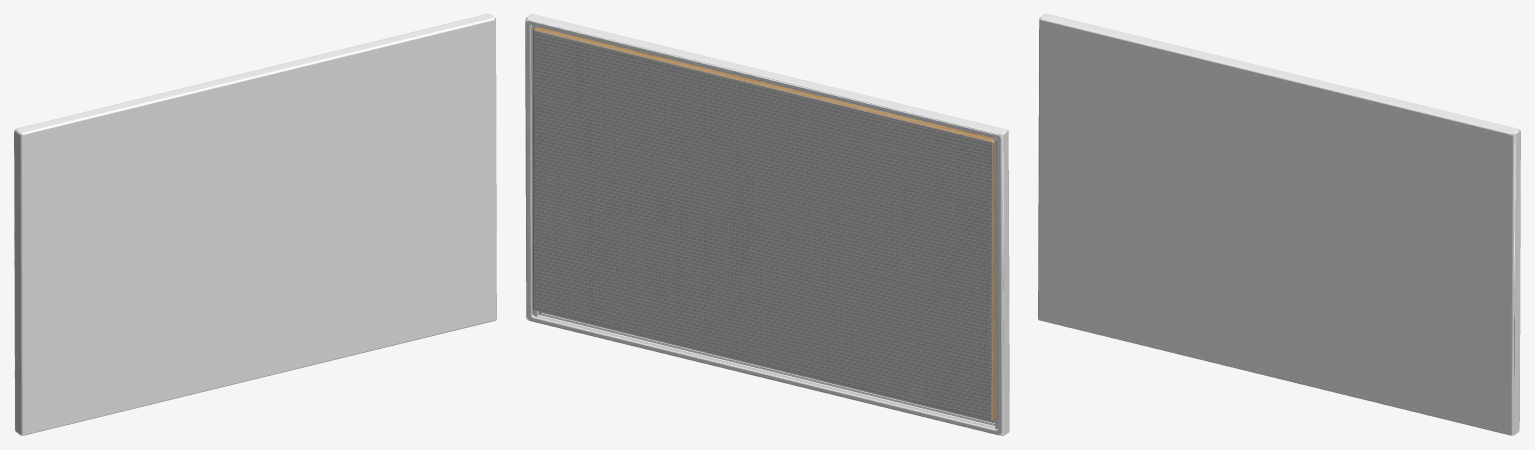
Rendered from canvas-landscape.glb.
3 views of the same model, side by side, from view 1: azimuth 30°, elevation 25°; view 2: azimuth 150°, elevation 25°; view 3: azimuth 330°, elevation 25° (orthographic).
Parts seen in each view (by area): view 1: canvas-print_0.009; view 2: canvas-print_0.009; view 3: canvas-print_0.009.
Part boxes in pixels (x1,y1,x2,y2): canvas-print_0.009: (14, 14, 496, 435); canvas-print_0.009: (525, 14, 1009, 435); canvas-print_0.009: (1038, 14, 1520, 435).
Bounding box in the file's own units: 1.44 × 0.8735 × 0.0487.
2 materials, 2 textured.
